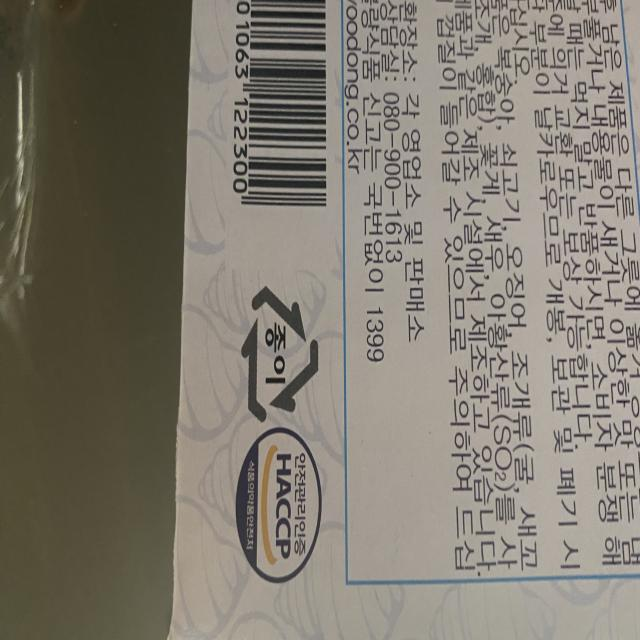Paper: (235, 272, 320, 426)
